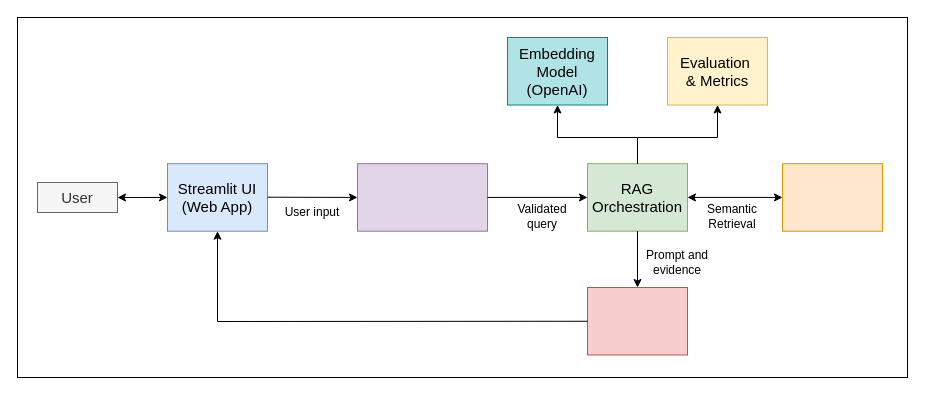
This 925x395 diagram has some shape labels left out. The centre of each missing label's shape, as x and y in pixels:
"LLM (OpenAI GPT model)" belongs at point 637,320.
"Prompt Engineering & Guardrails" belongs at point 422,197.
"Vector DB (PineCone)" belongs at point 832,197.
